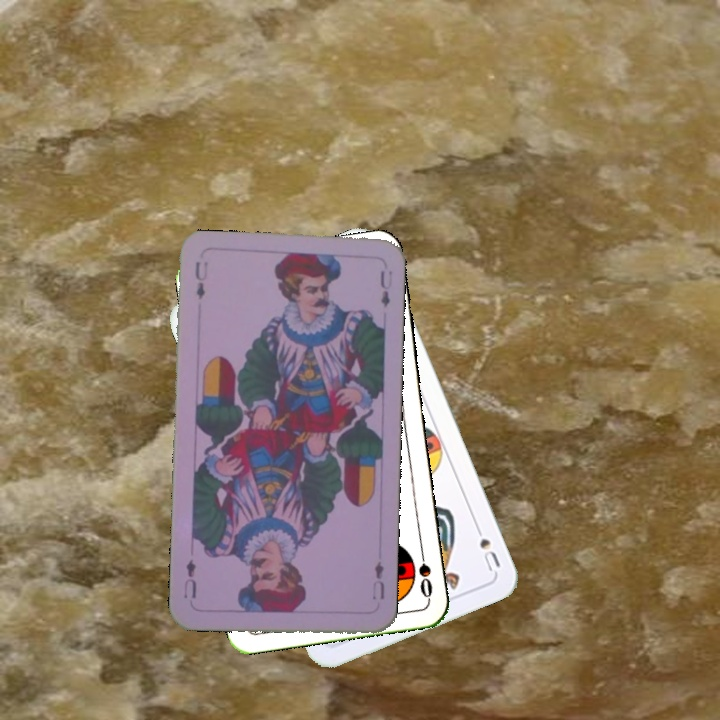EU: (368, 557, 387, 602), (191, 257, 210, 302)
SO: (414, 542, 435, 601)
SU: (469, 518, 503, 574)
